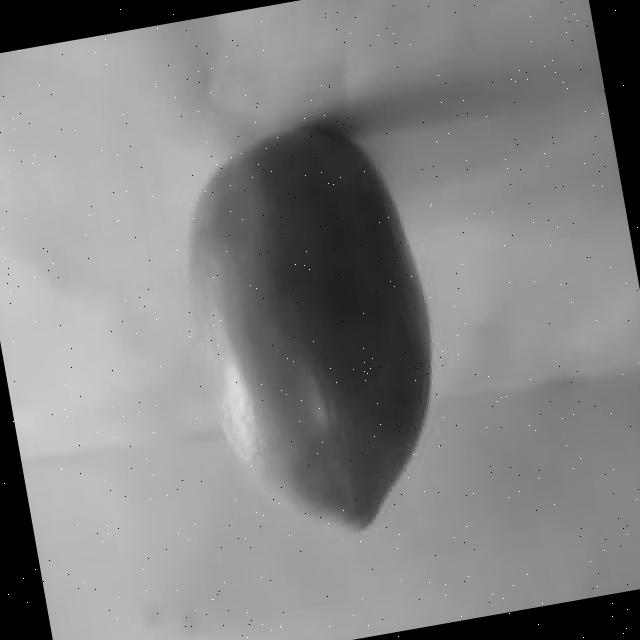Ripe: (148, 106, 468, 561)
